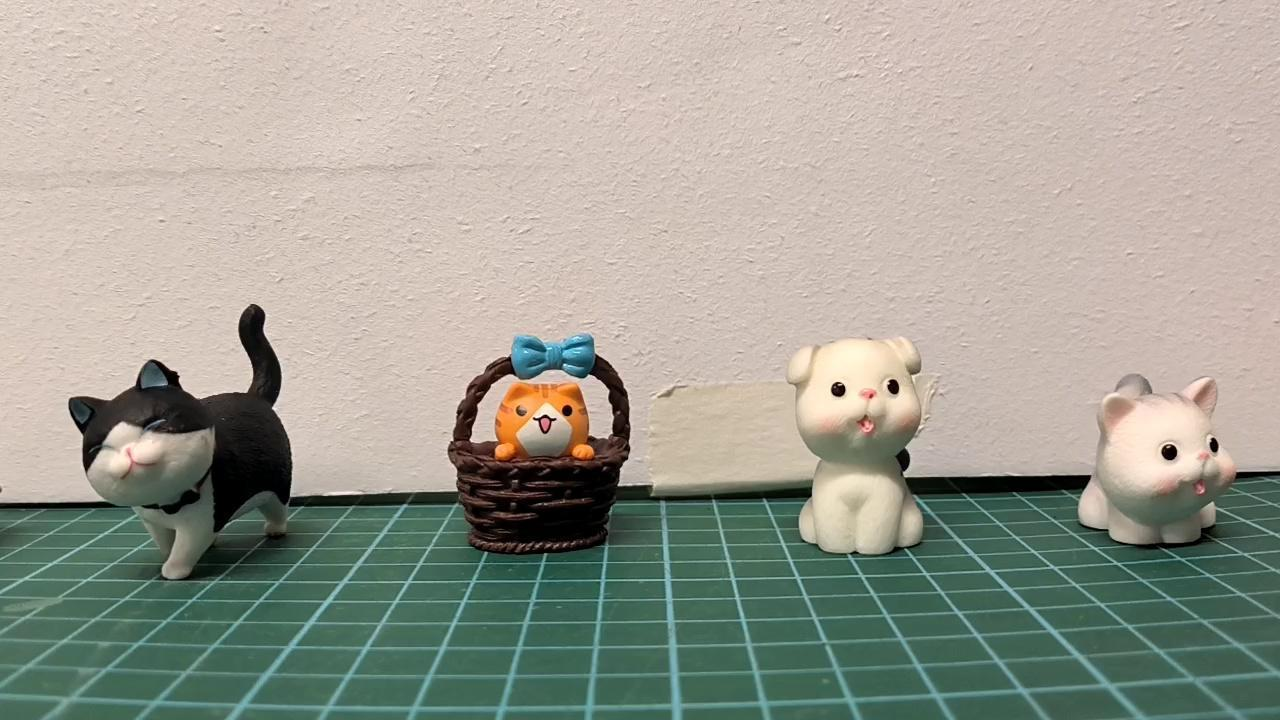pet: (68, 303, 299, 585), (783, 333, 929, 557), (1081, 371, 1234, 547), (496, 378, 598, 462)
